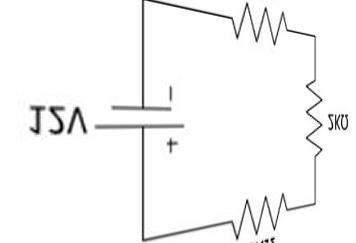resistor: (209, 187, 298, 238), (223, 5, 300, 46), (293, 72, 323, 167)
